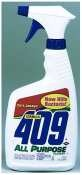grozi_41: (2, 4, 76, 172)
